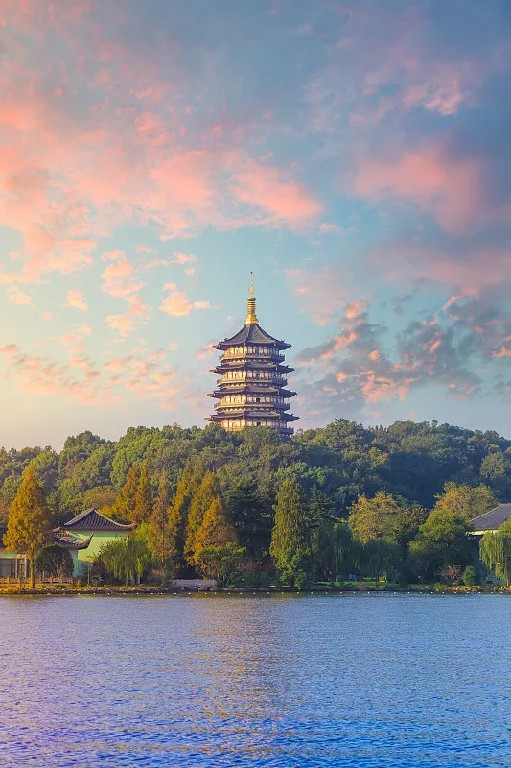Leifeng: (202, 265, 300, 430)
